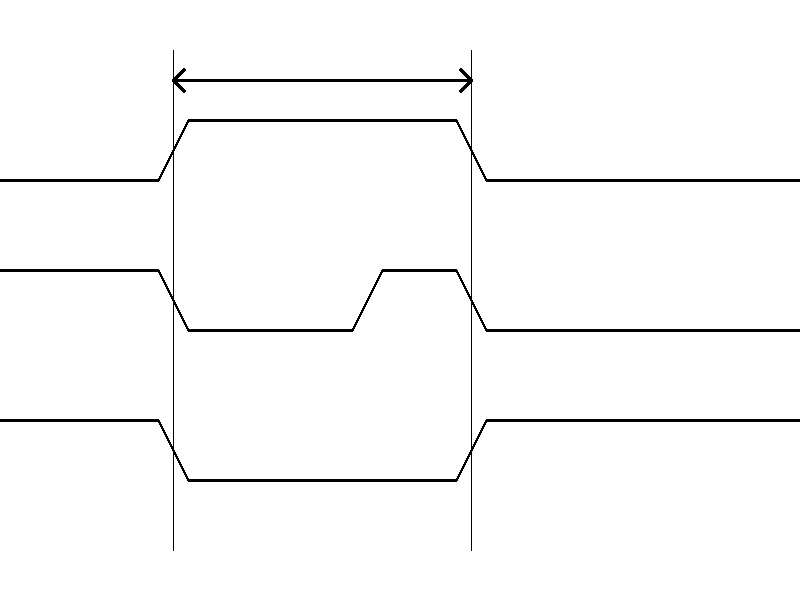double_arrow: (173, 65, 471, 95)
